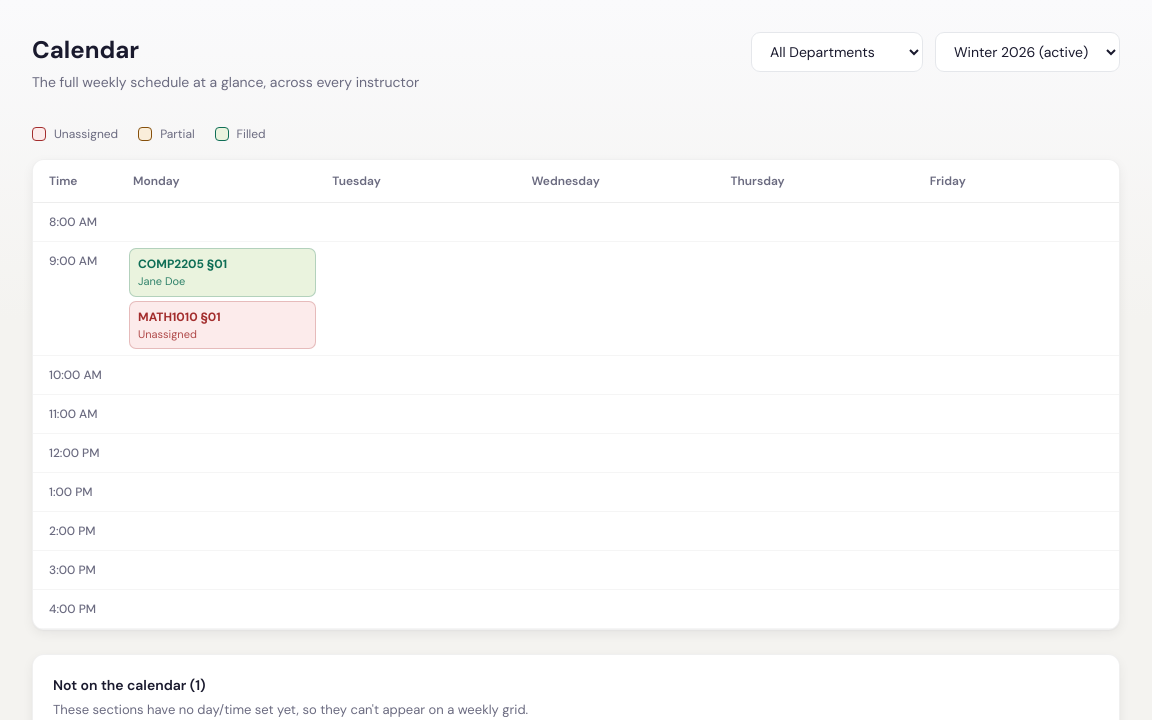
Test case: AdminCalendar › filters the calendar down to the selected department
Expected: the text "COMP2205 §01" is shown, [138, 256, 227, 272]
Select "Mathematics" in the dropdown named "Filter by department" at (837, 52), box [751, 32, 923, 72]
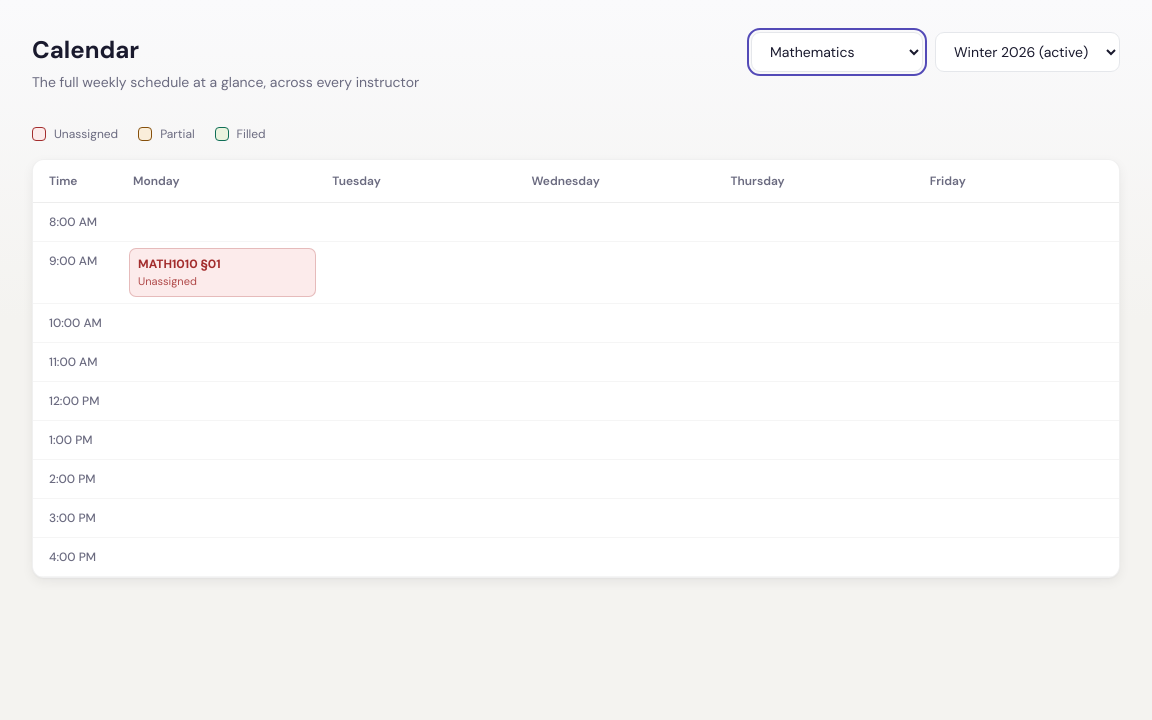
Expected: the text "MATH1010 §01" is shown, [138, 256, 221, 272]
Expected: the link "COMP2205 §01" is gone
